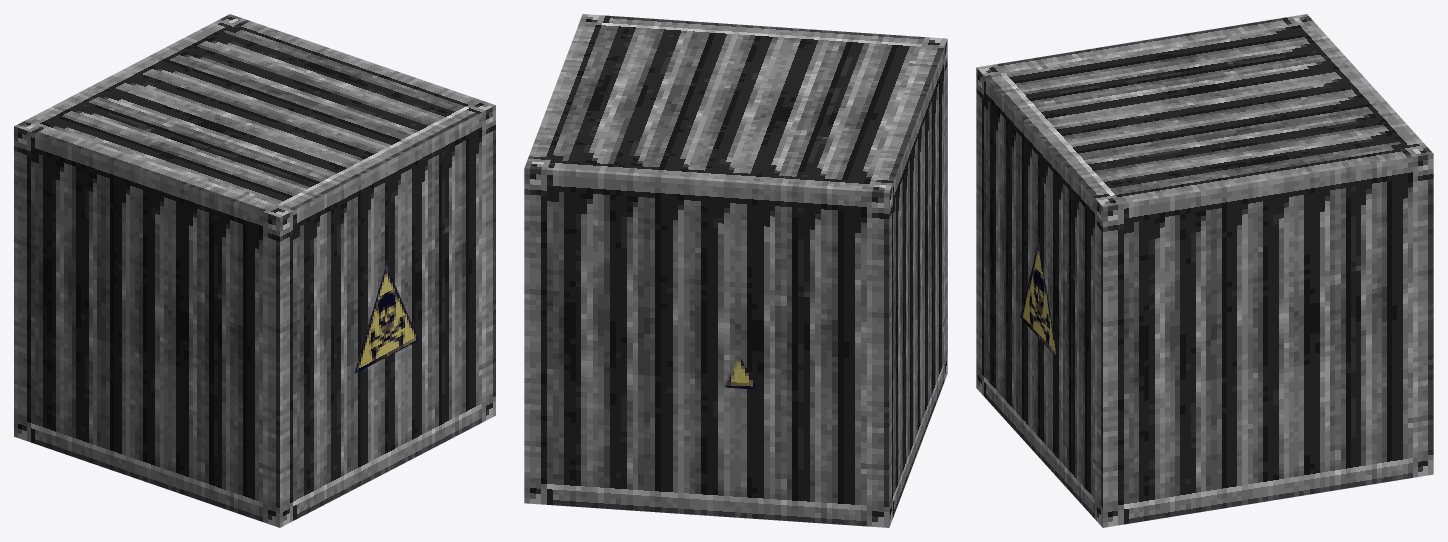
Rendered from primary_384.glb.
The picture shows the model from 3 angles, left to right: view 1: azimuth 30°, elevation 25°; view 2: azimuth 150°, elevation 25°; view 3: azimuth 270°, elevation 25°; orthographic projection. The views are drawn at different scales.
Visible parts, largest first — view 1: Object; view 2: Object; view 3: Object.
Part boxes in pixels (bbox=[...]): Object: bbox=[14, 14, 495, 527]; Object: bbox=[524, 14, 947, 527]; Object: bbox=[976, 14, 1433, 527].
Size of the model in its own units: 1.7 by 1.32 by 1.7.
2 materials, 2 textured.
